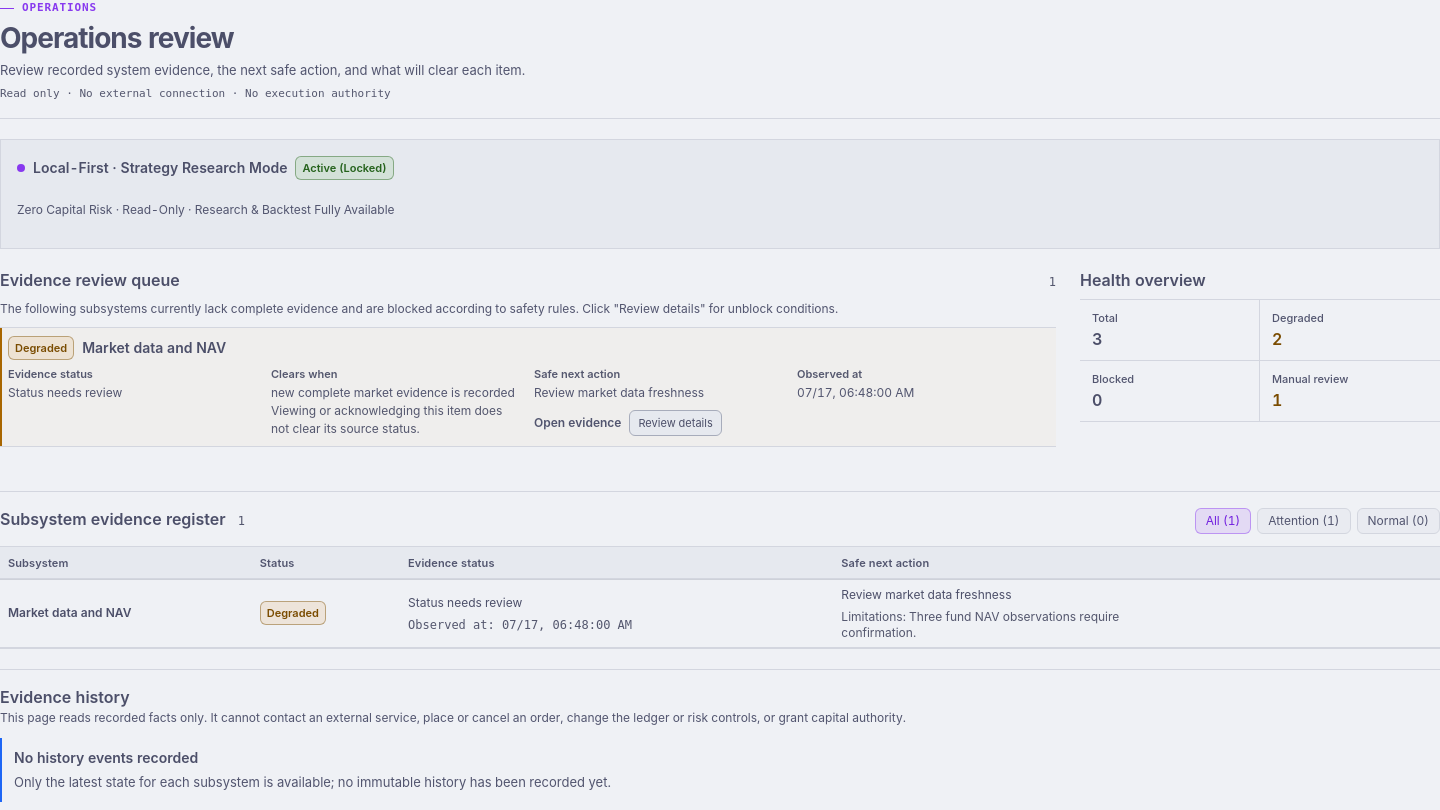
Test: renders persisted attention evidence without write or execution affordances
Expected: the heading "Operations review" is shown, [0,21,234,55]
Expected: the element with test id "operations-page" shows "Read only", [0,87,391,100]
Click the button "Review details". click: [676, 423]
box: [630,410,722,436]
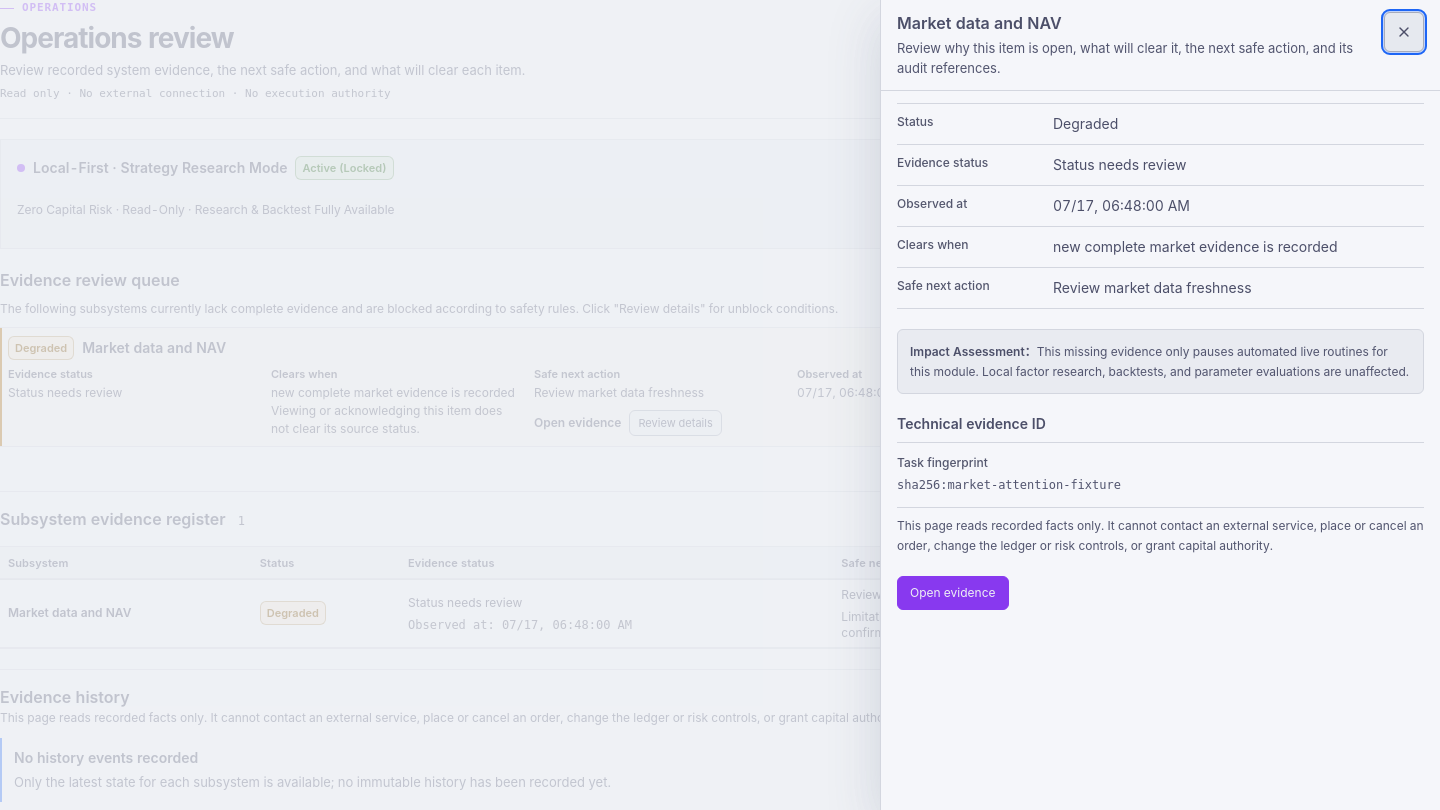
Expected: the heading "Subsystem evidence register" is shown, [0,508,226,530]
Now the element with test id "operations-evidence-detail" shows "sha256:market-attention-fixture", box [897,478,1121,492]
Now the element with test id "operations-evidence-detail" shows "This page reads recorded facts only.", box [897,518,1424,553]
